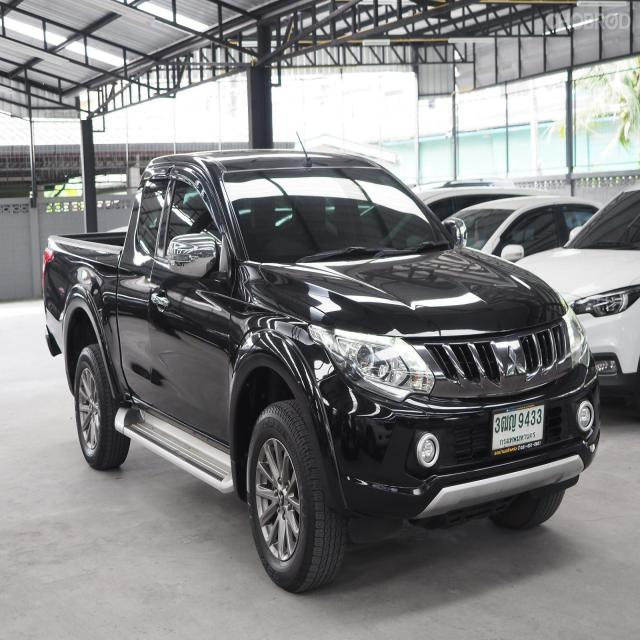license_plate: (488, 403, 550, 460)
